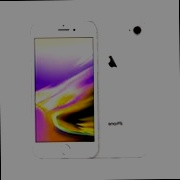iphone: (81, 20, 150, 159)
